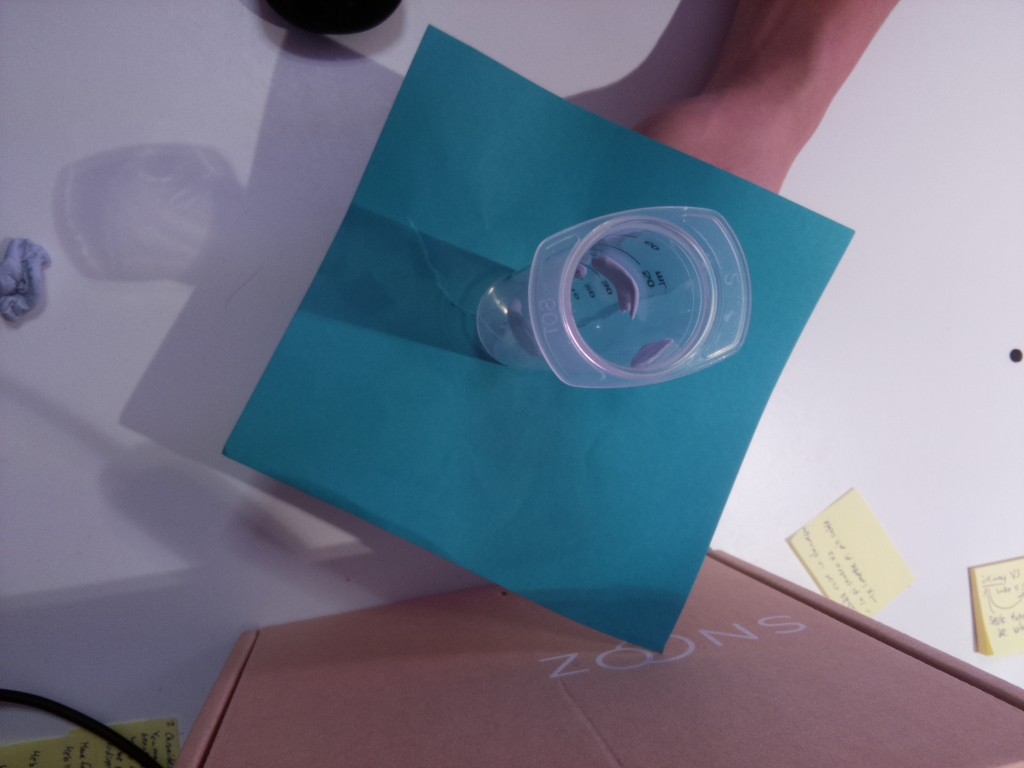dirty: (528, 207, 752, 389)
